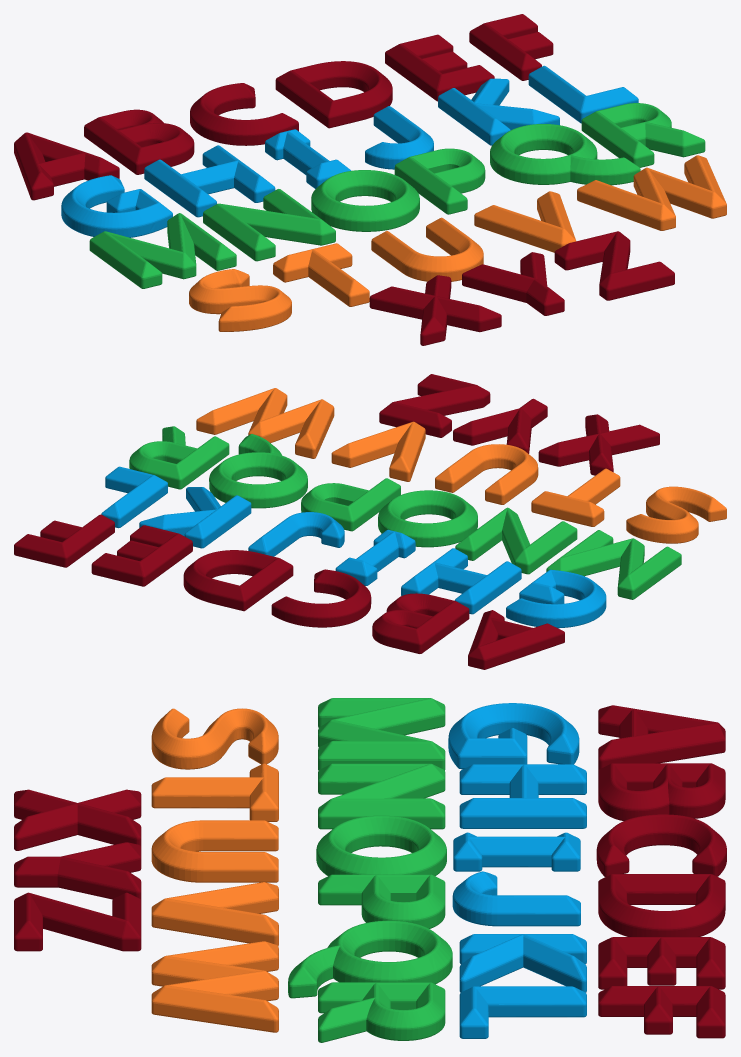
Rendered from ABCDEFGHIJKLMNOPQRSTUVWXYZ.glb.
The picture shows the model from 3 angles, top to bottom: view 1: azimuth 30°, elevation 25°; view 2: azimuth 150°, elevation 25°; view 3: azimuth 270°, elevation 25°; orthographic projection. The views are drawn at different scales.
Bounding box in the file's own units: 0.118 × 0.00424 × 0.109.
